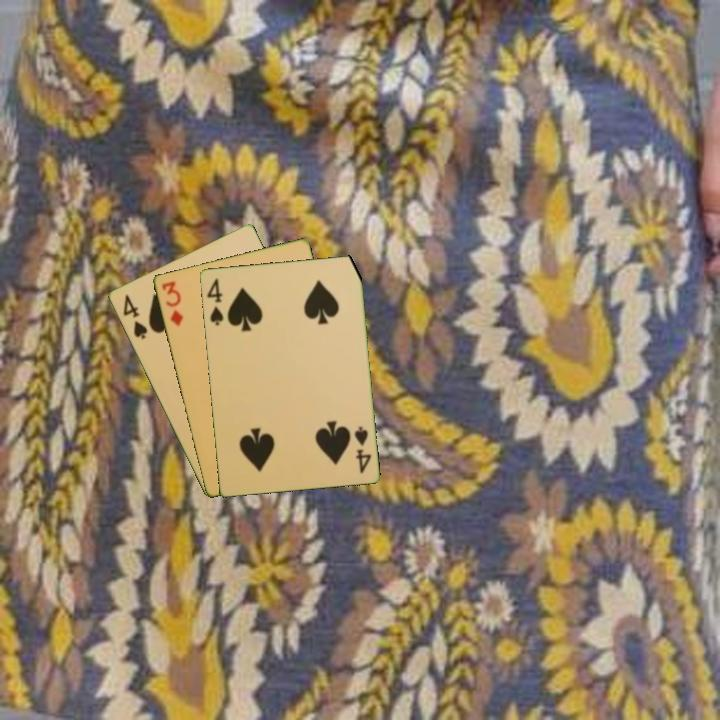3d: (158, 277, 186, 329)
4s: (119, 290, 150, 342), (350, 422, 374, 476), (203, 274, 226, 328)
